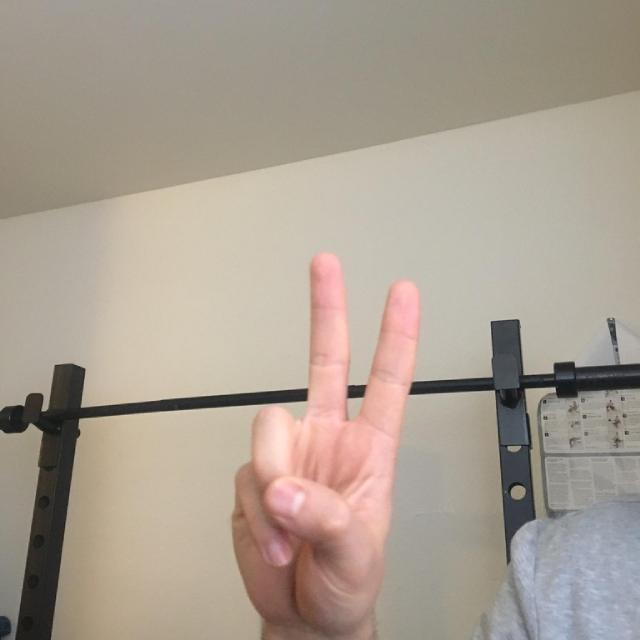V: (183, 233, 508, 640)
